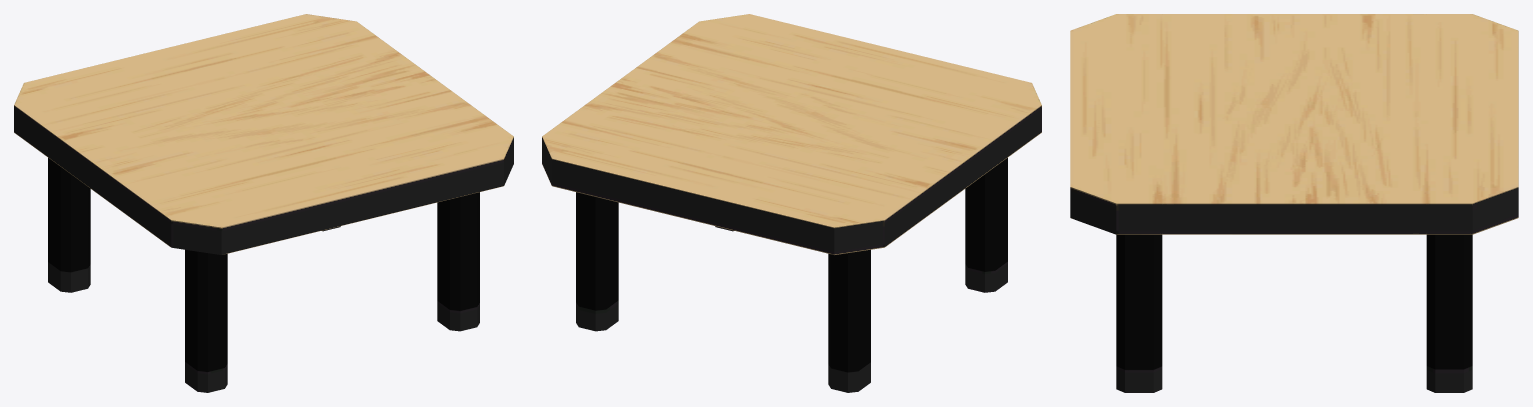
Rendered from Table.fbx.
3 renders of one model, left to right at view 1: azimuth 30°, elevation 25°; view 2: azimuth 150°, elevation 25°; view 3: azimuth 270°, elevation 25°, orthographic. The views are drawn at different scales.
Parts seen in each view (by area): view 1: Cube.001; view 2: Cube.001; view 3: Cube.001.
Boxes of the visible parts, bbox=[...] form: Cube.001: bbox=[14, 14, 513, 392]; Cube.001: bbox=[542, 14, 1041, 392]; Cube.001: bbox=[1070, 14, 1518, 392].
Size of the model in its own units: 3511 by 1780 by 3508.
